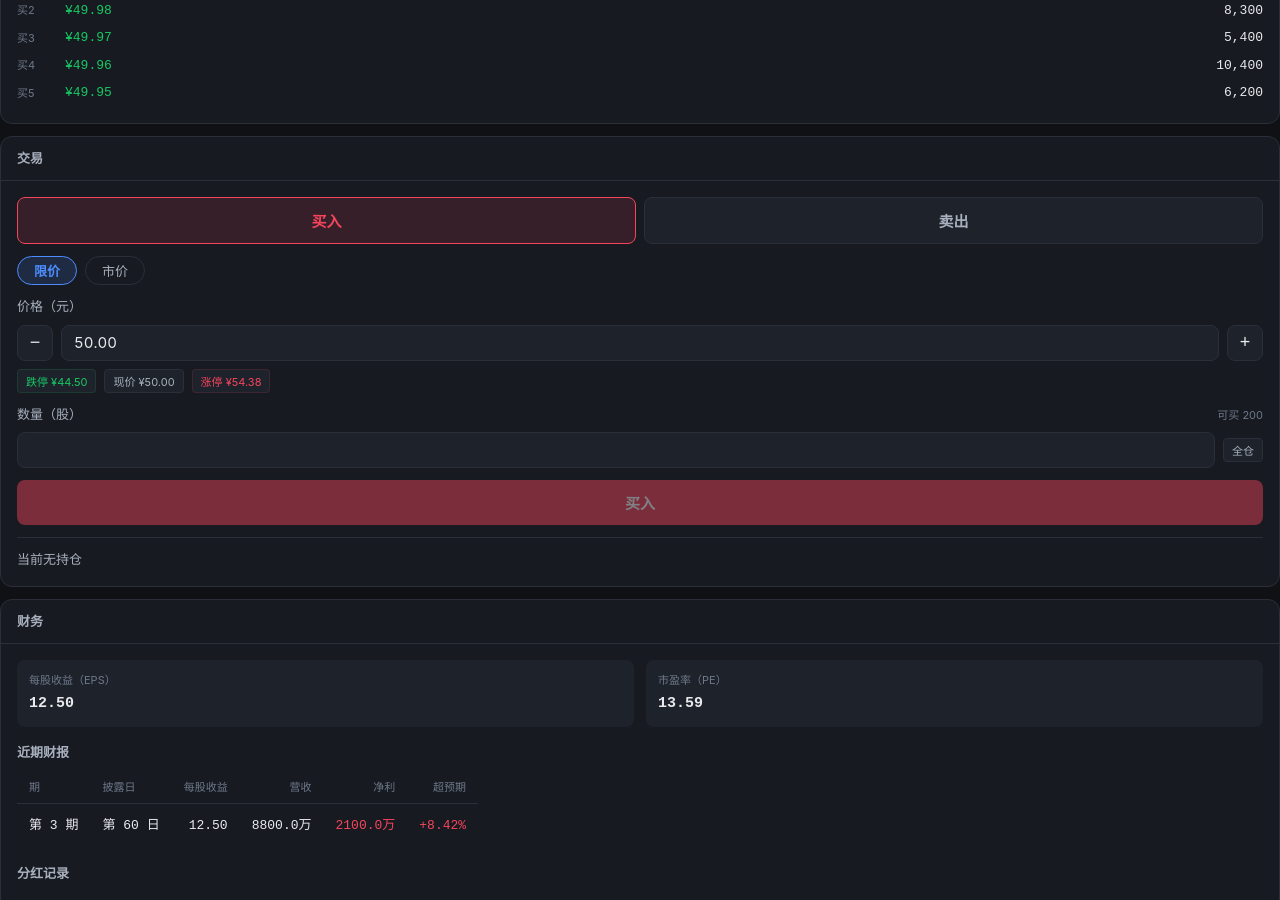
Test: Stock 下单 › 买入成功后提示已冻结并刷新数据
(page scrolled)
In the number field with test id "qty-input": x=616, y=450 [17, 432, 1215, 468], type "100"
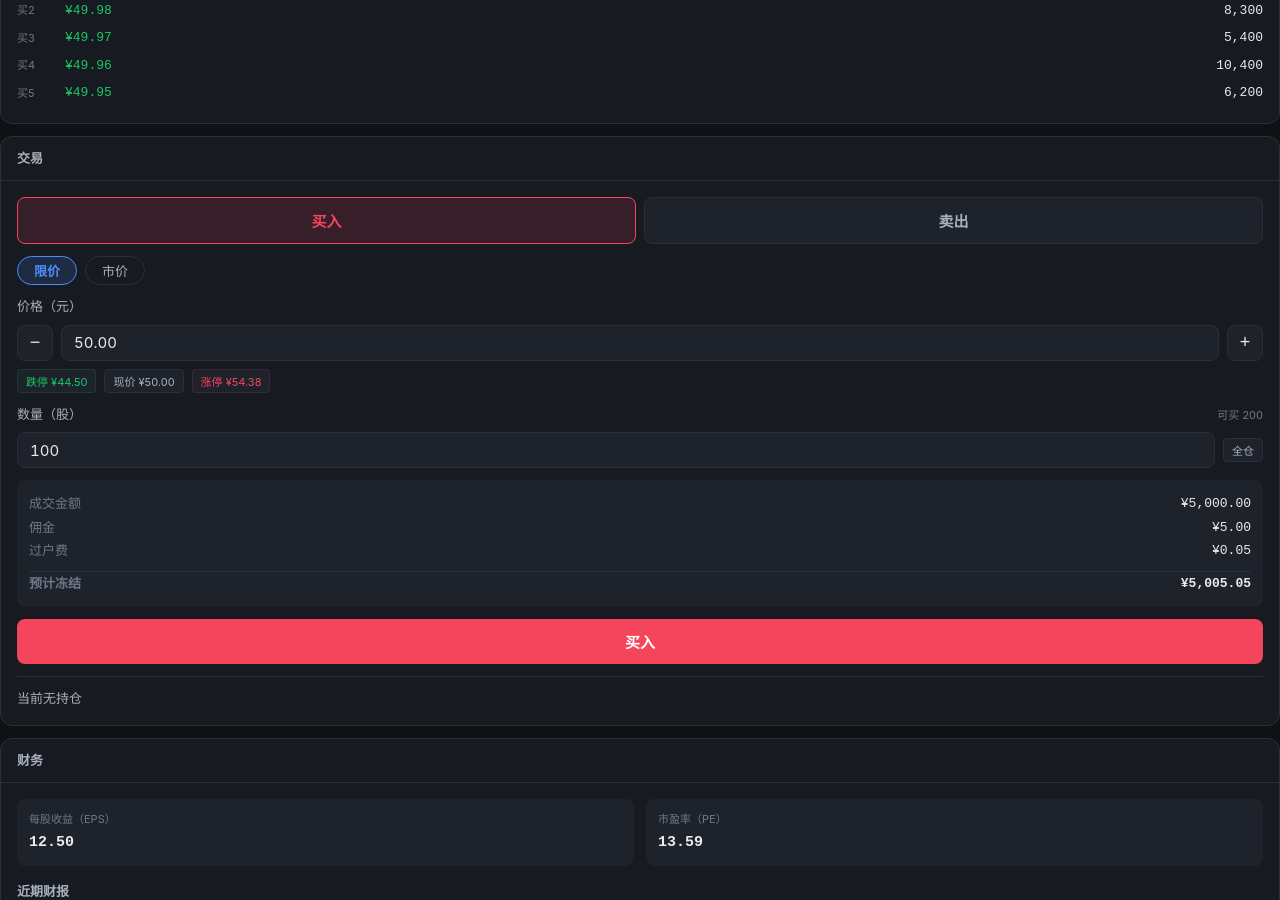
Click the button with test id "submit-order": x=640, y=642 [17, 619, 1263, 664]
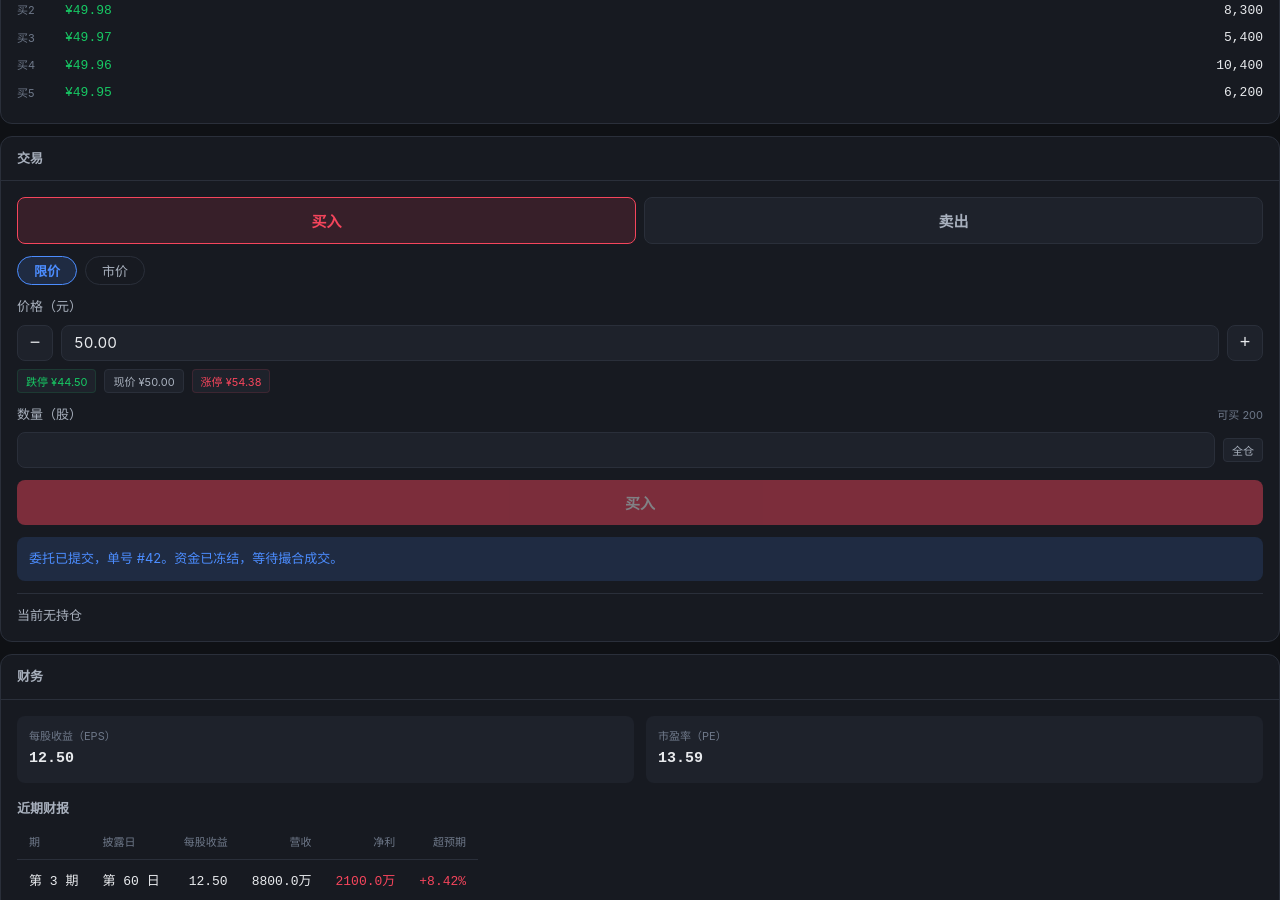
Result: the text "委托已提交，单号 #42。资金已冻结，等待撮合成交。" is shown at [17, 537, 1263, 580]
